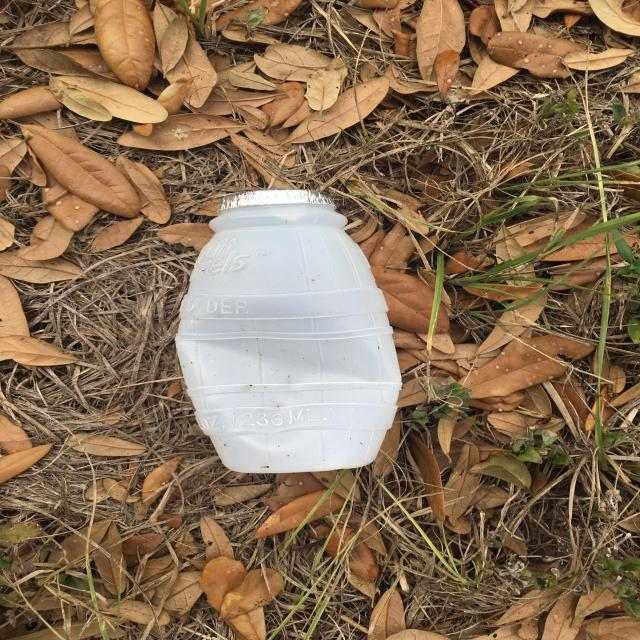litter: (253, 179, 630, 348)
